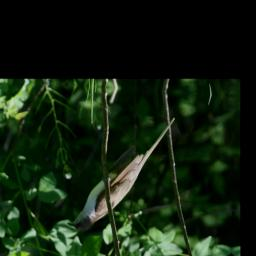Cuckoo: (67, 109, 177, 238)
